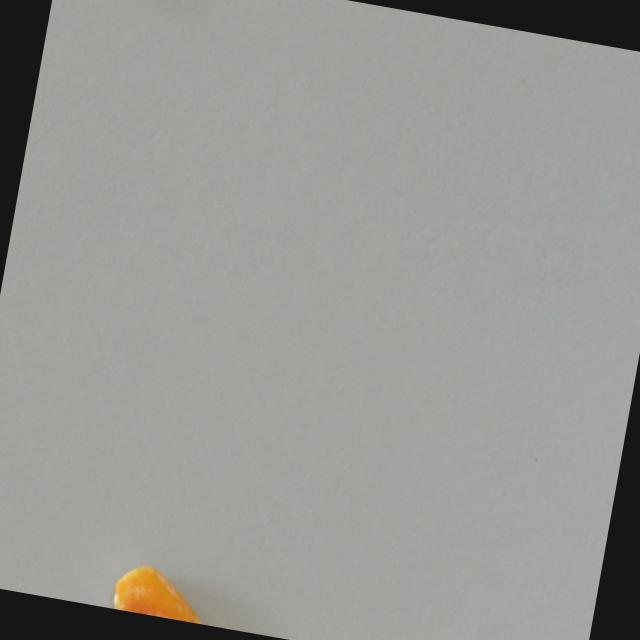dañado: (105, 554, 224, 626)
